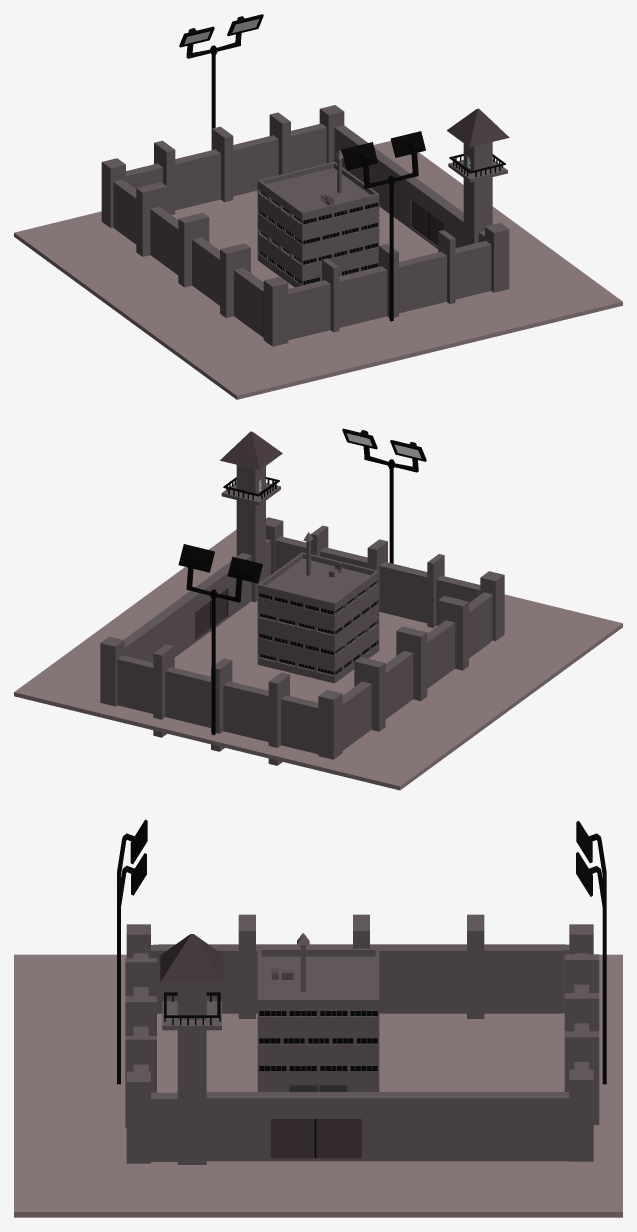
File: jail.glb
3 renders of one model, top to bottom at view 1: azimuth 30°, elevation 25°; view 2: azimuth 150°, elevation 25°; view 3: azimuth 270°, elevation 25°, orthographic. The views are drawn at different scales.
Visible parts, largest first — view 1: tower, jail; view 2: tower, jail; view 3: tower, jail.
Boxes of the visible parts, <box> form: tower: <box>14,14,622,399</box>; jail: <box>257,150,379,287</box>; tower: <box>14,428,622,790</box>; jail: <box>257,532,379,683</box>; tower: <box>14,819,622,1217</box>; jail: <box>257,933,379,1091</box>.
Size of the model in its own units: 200 by 94.92 by 200.
Materials: 1 (1 with a texture image).
